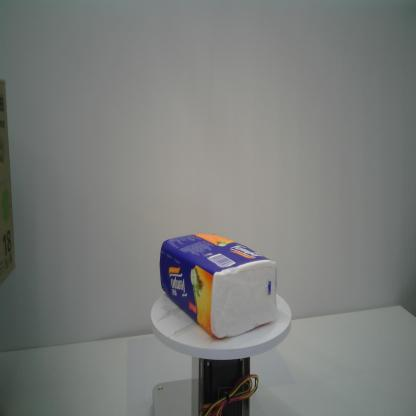Tissue: (158, 228, 279, 343)
